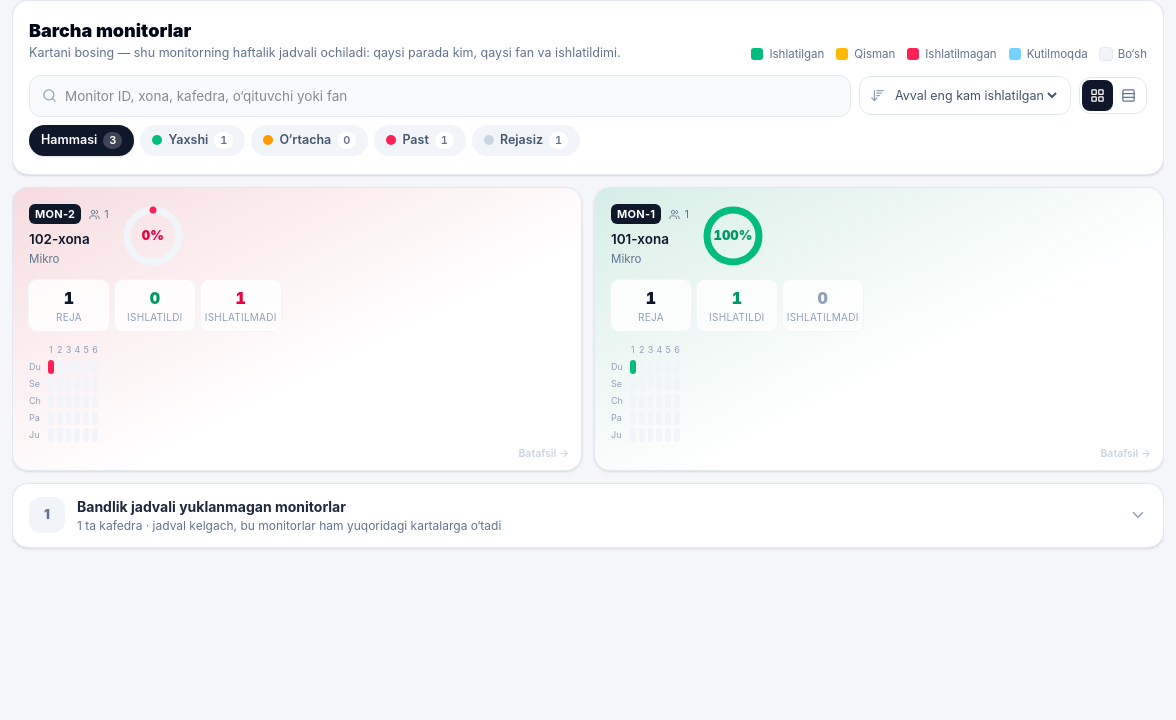
Test: MonitorExplorer › filters by status chip and searches by teacher
Click the button "Past 1" at (420,140), box [374, 125, 466, 156]
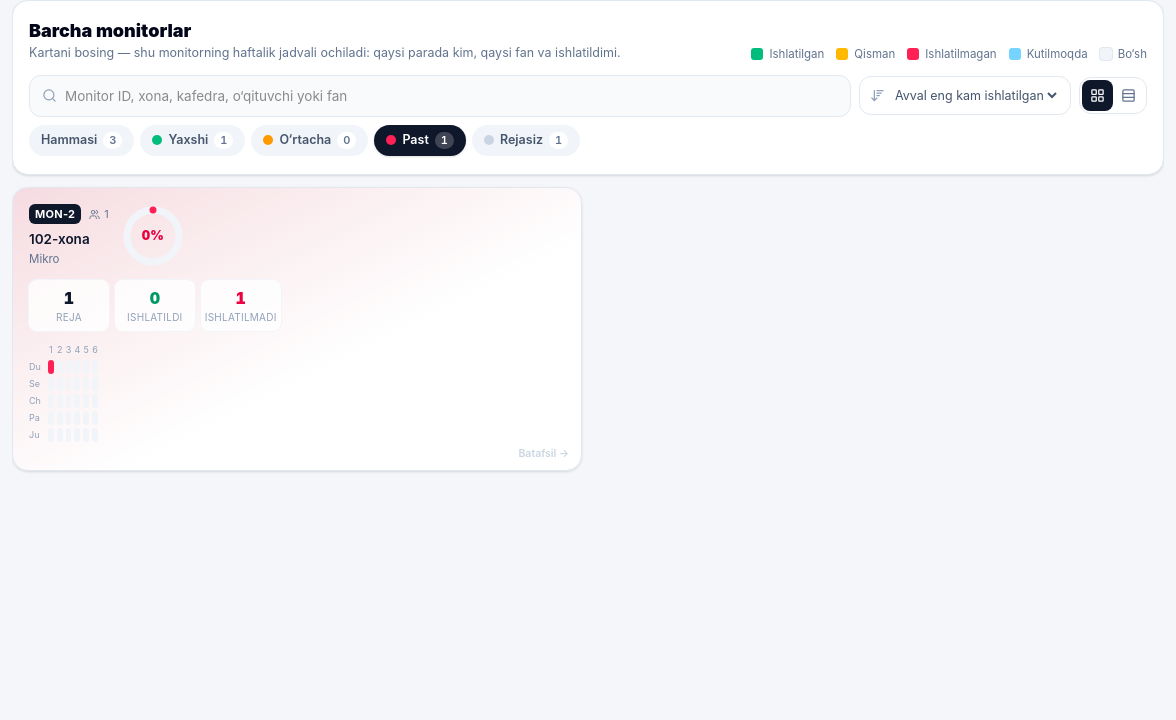
Expected: the text "102-xona" is shown, [29, 231, 90, 247]
Expected: the button "101-xona" is gone
Click the button "Hammasi 3" at (82,140), box [29, 125, 134, 156]
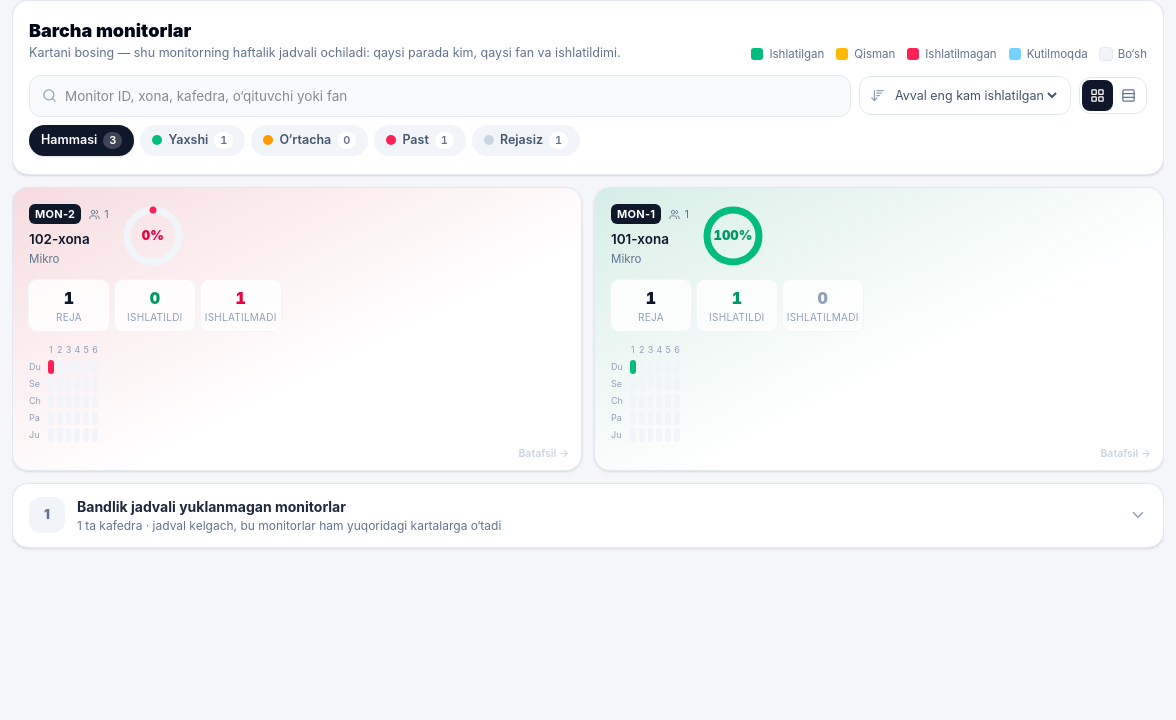
Type "boretskaya" into the field with placeholder "Monitor ID, xona, kafedra, o‘qituvchi yoki fan" at (452,96), box [65, 76, 838, 116]
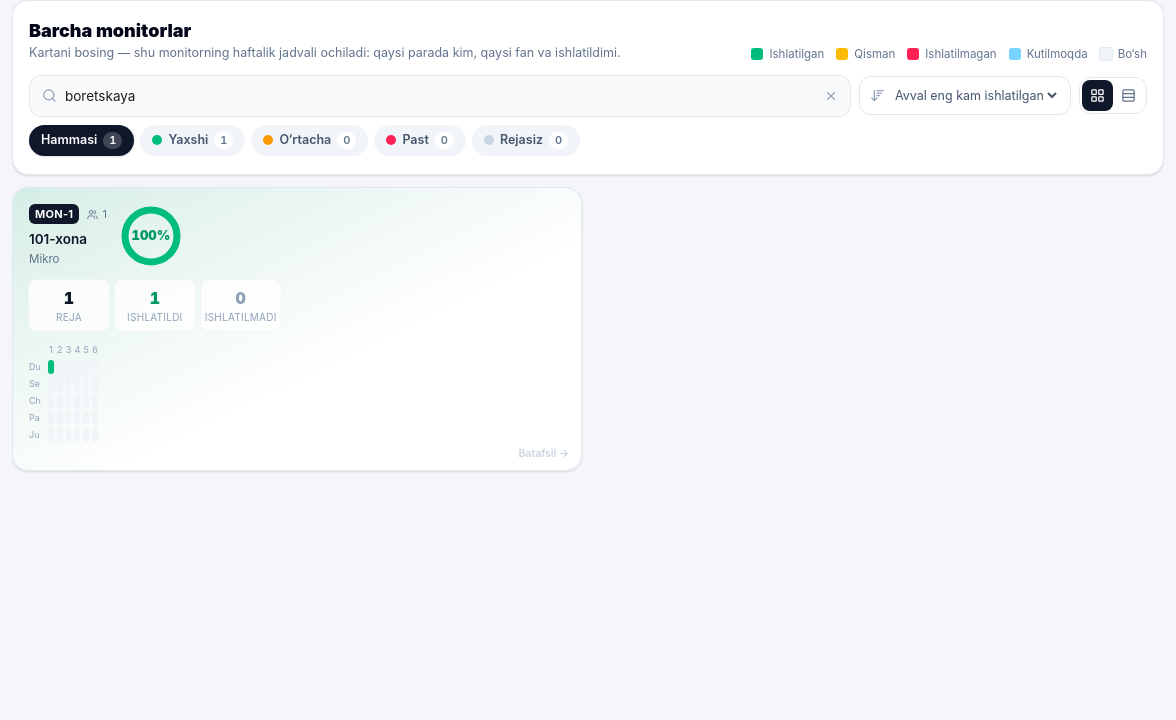
Expected: the text "101-xona" is shown, [29, 231, 87, 247]
Expected: the button "102-xona" is gone
